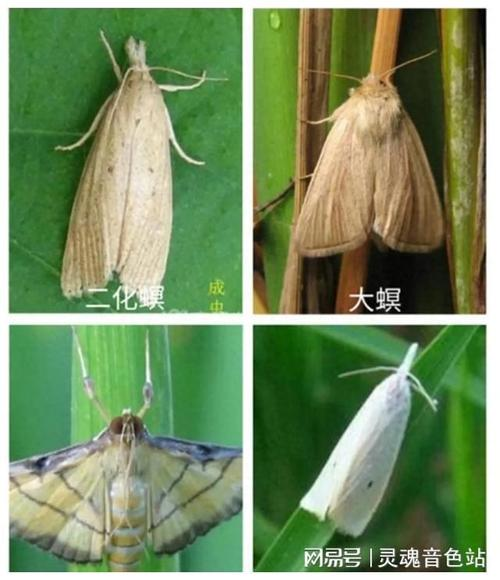Crambidae: (9, 335, 248, 574), (49, 42, 217, 303), (295, 343, 440, 537)
